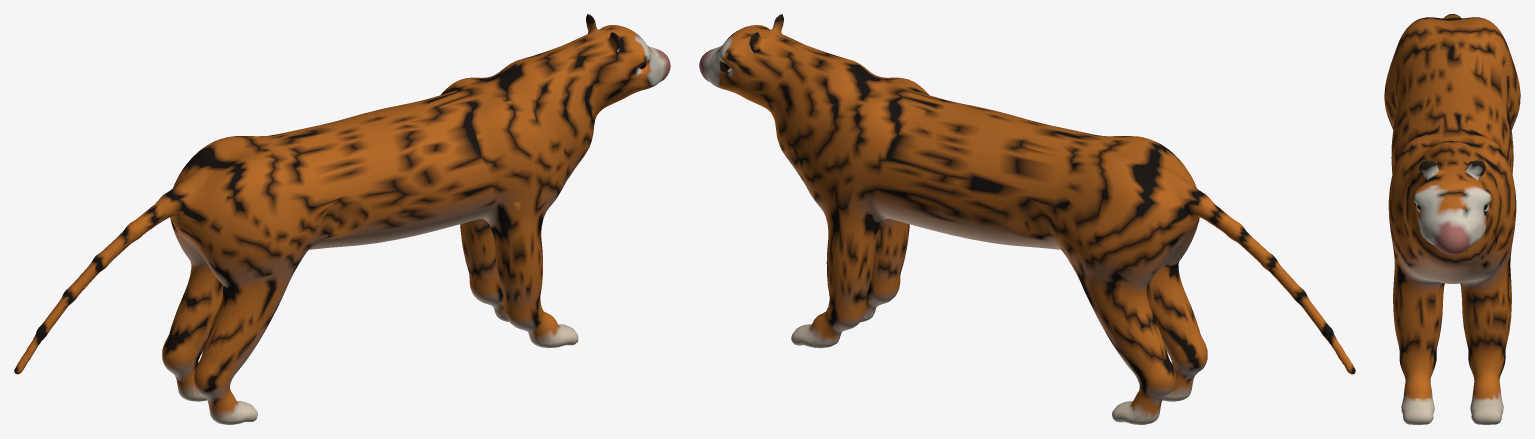
The model's file is tiger.glb.
The picture shows the model from 3 angles, left to right: view 1: azimuth 30°, elevation 25°; view 2: azimuth 150°, elevation 25°; view 3: azimuth 270°, elevation 25°; orthographic projection.
Parts seen in each view (by area): view 1: tiger; view 2: tiger; view 3: tiger.
Part boxes in pixels (x1,y1,x2,y2): tiger: [14, 14, 670, 424]; tiger: [699, 14, 1355, 424]; tiger: [1384, 14, 1520, 424].
Bounding box in the file's own units: 2.6 × 1.11 × 0.4742.
